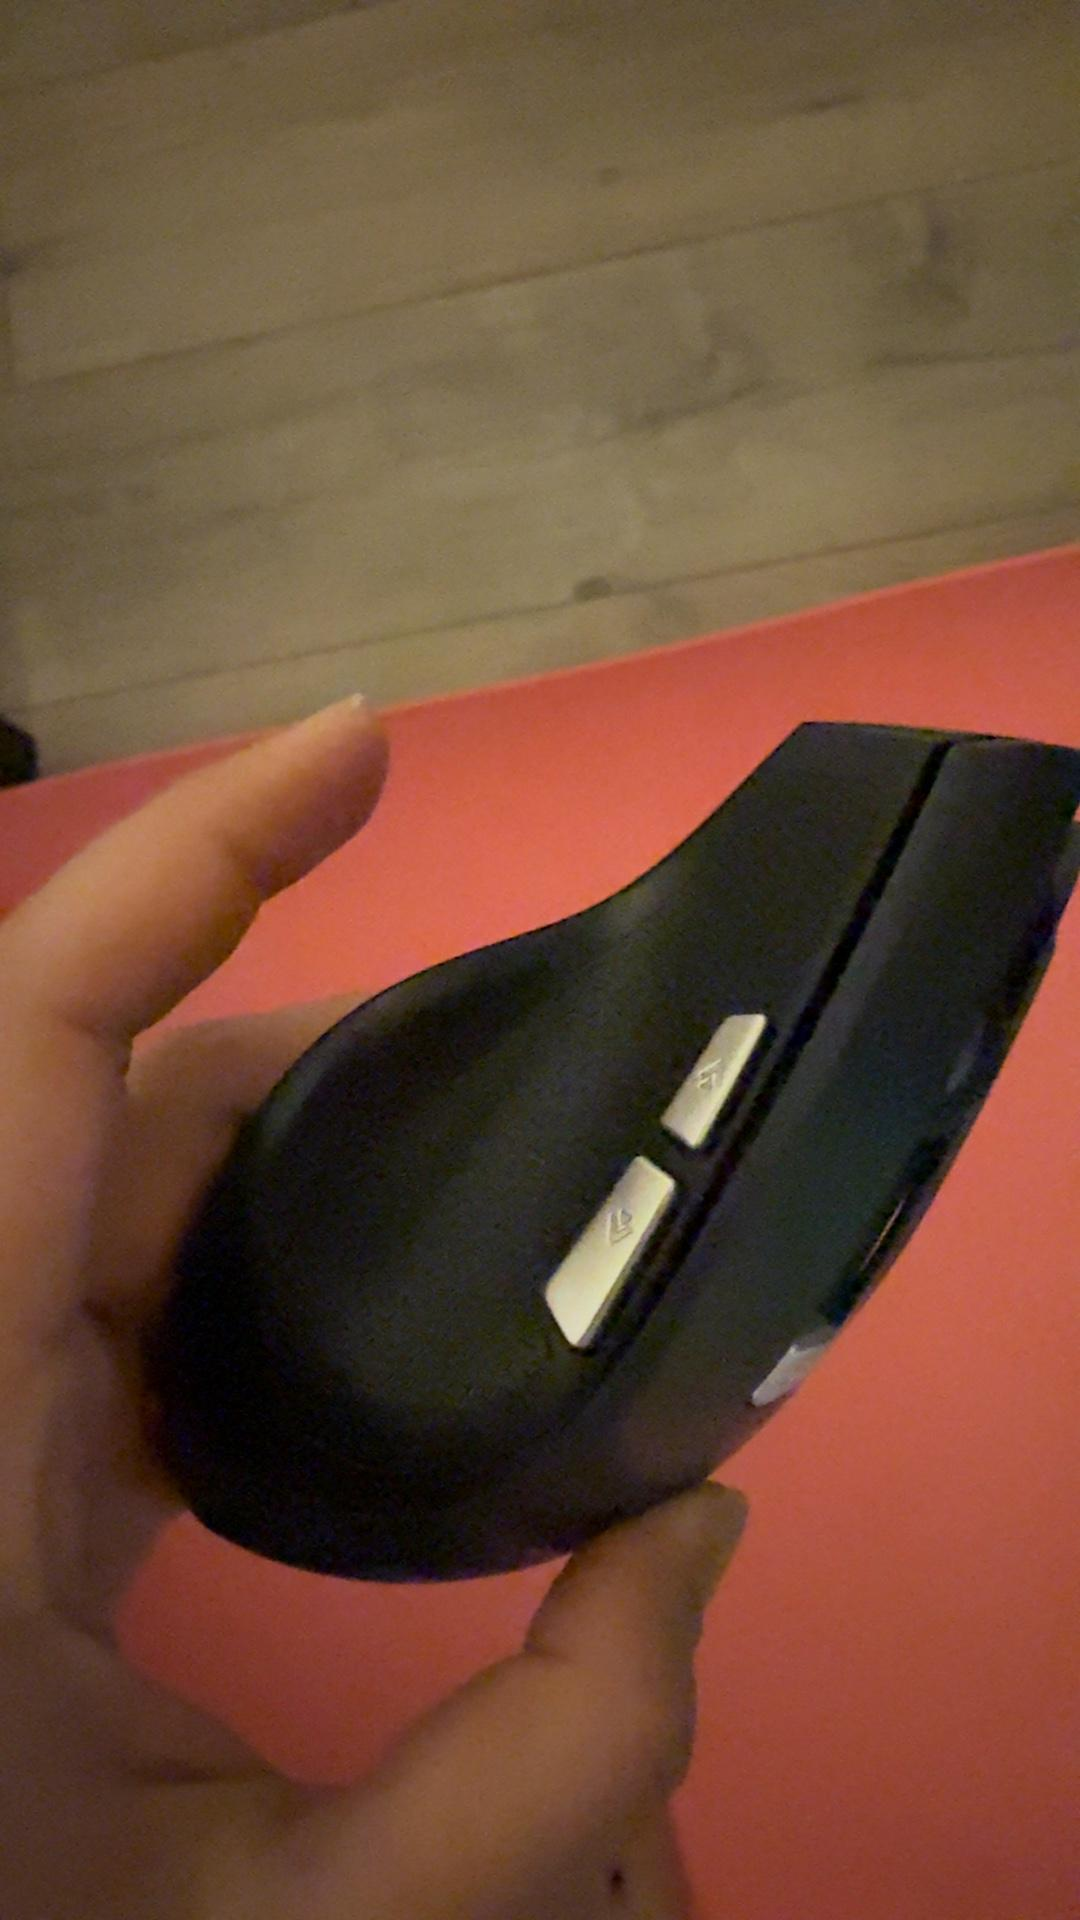Mouse: (165, 717, 1077, 1572)
